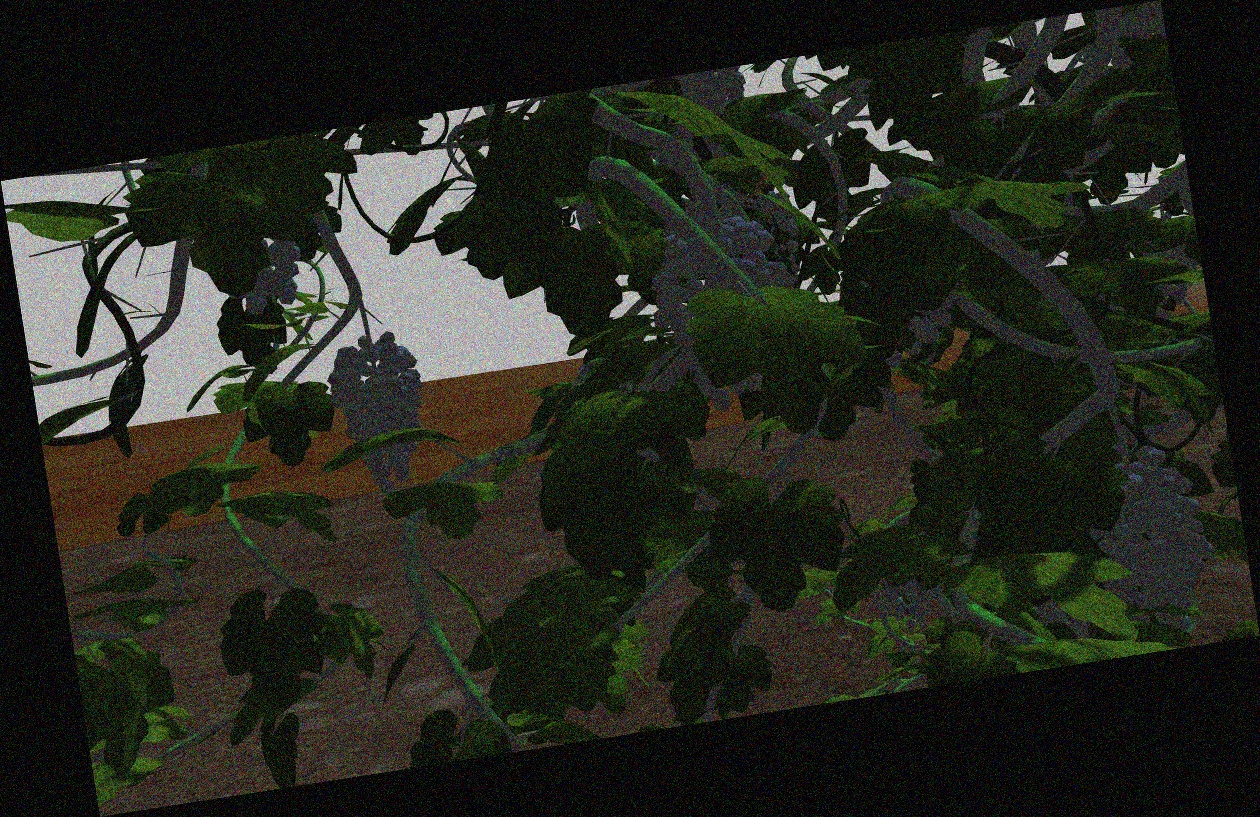grape: (658, 223, 780, 400), (1096, 448, 1211, 633), (335, 336, 427, 495), (231, 247, 305, 312)
